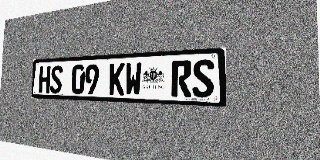0: (71, 64, 85, 94)
9: (84, 64, 99, 95)
H: (39, 66, 51, 93)
K: (109, 63, 125, 95)
R: (171, 60, 192, 97)
S: (192, 59, 214, 98), (50, 65, 63, 93)
W: (125, 62, 142, 96)
